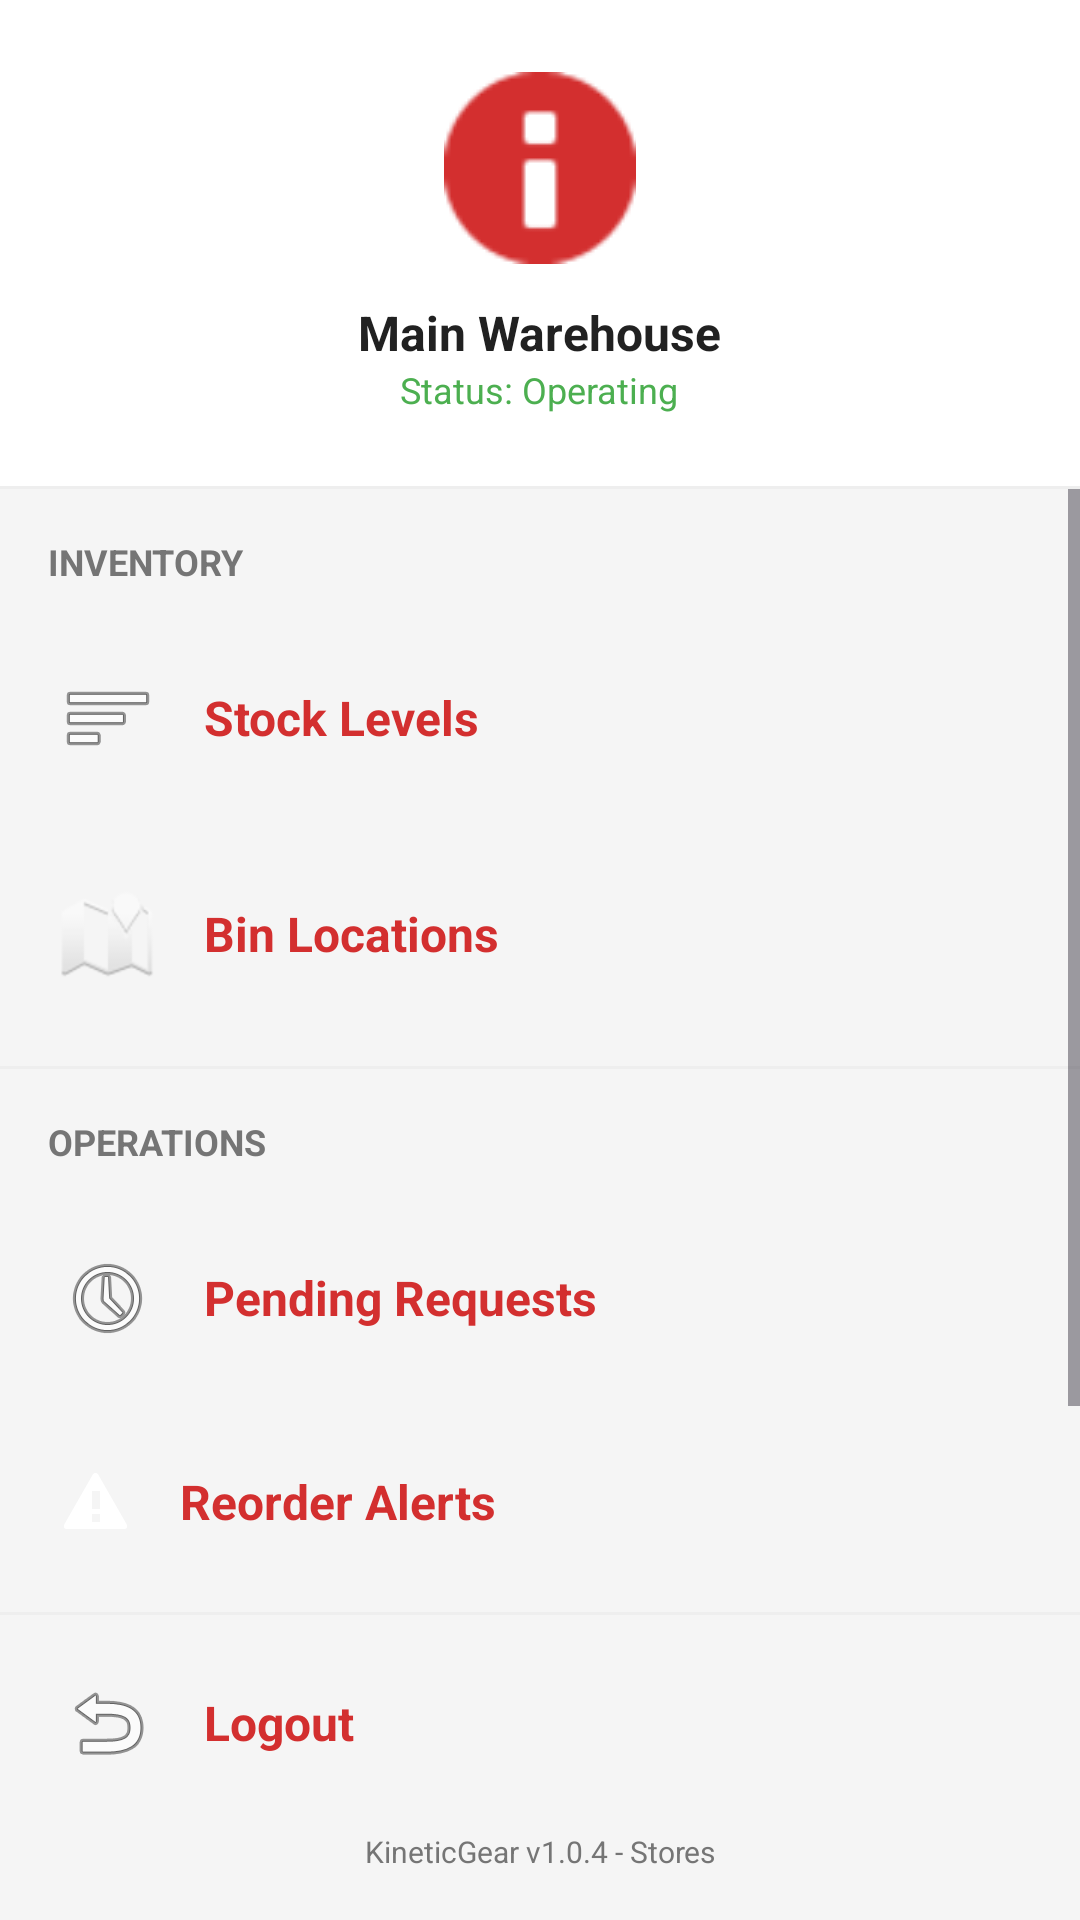

Icons on this 1080w x 1920h Android screen, each with its box as box(x1, y1, x2, y2):
info: box(444, 72, 636, 264)
